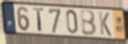0: (65, 9, 79, 36)
6: (16, 6, 30, 33)
7: (48, 8, 62, 35)
B: (79, 10, 98, 38)
K: (98, 11, 113, 38)
T: (32, 7, 45, 34)
